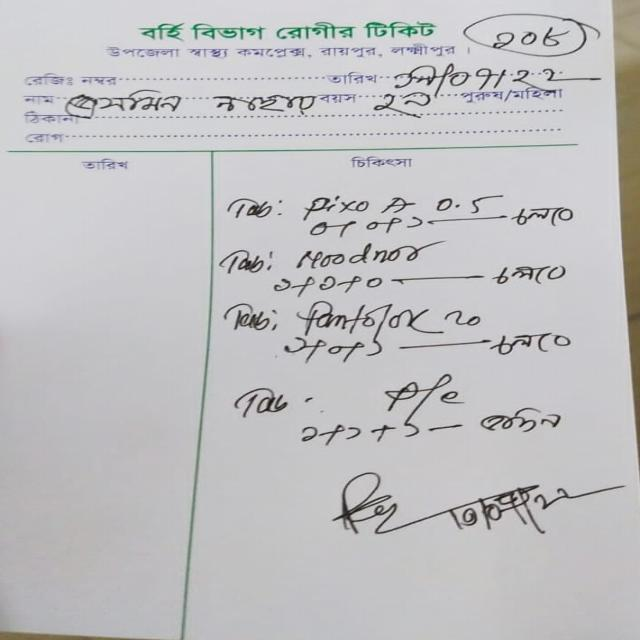A-C: (386, 373, 467, 411)
Moodnor: (291, 239, 432, 277)
Pantolok: (293, 297, 436, 337)
